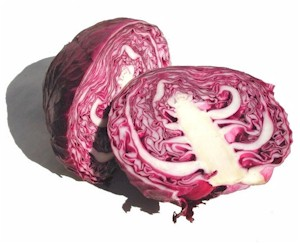cabbage: (108, 66, 294, 222), (43, 19, 174, 186)
